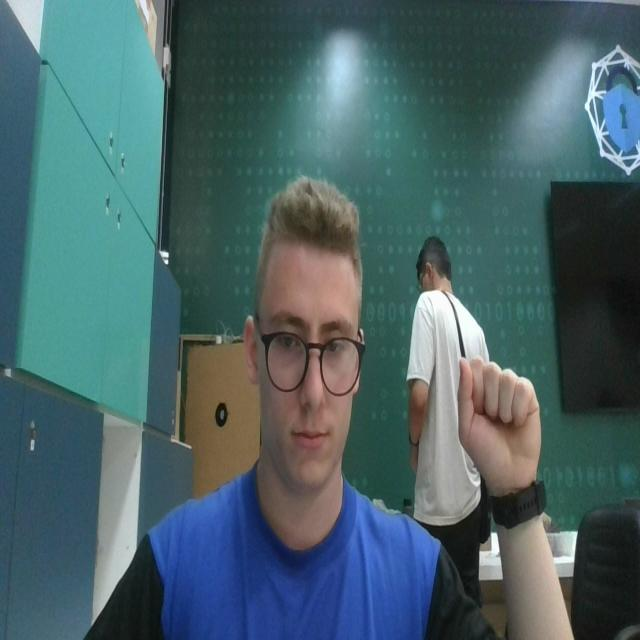A: (453, 350, 544, 480)
